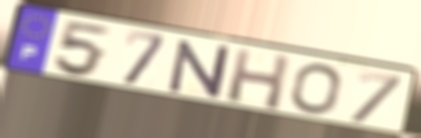5: (53, 18, 117, 78)
7: (348, 69, 403, 125), (122, 28, 167, 90)
H: (224, 46, 293, 113)
N: (167, 39, 232, 101)
O: (289, 62, 344, 117)
